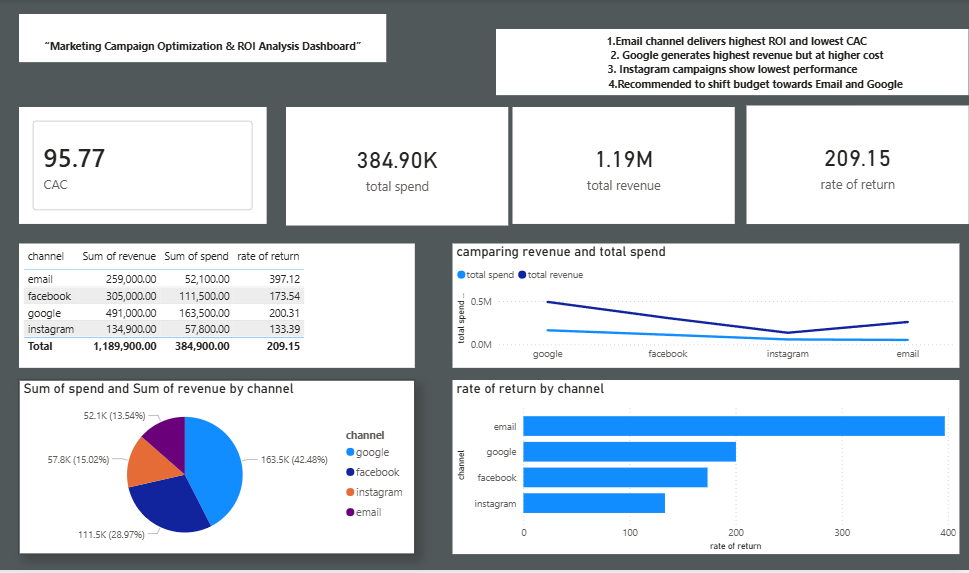

The dashboard page shown, as its layout file describes it:
{"tool":"powerbi","page":{"name":"Page 1","canvas":[1280,720],"ordinal":0},"visuals":[{"type":"cardVisual","fields":{"Data":["Campaign.CAC"]},"box":[83.2,136.1,311.8,147.4],"z":0},{"type":"card","fields":{"Values":["Campaign.rate of return"]},"box":[999.7,134.2,279.7,149.3],"z":1000},{"type":"card","fields":{"Values":["Campaign.total revenue"]},"box":[704.9,136.1,279.7,147.4],"z":2000},{"type":"card","fields":{"Values":["Campaign.total spend"]},"box":[419.5,136.1,279.7,149.3],"z":3000},{"type":"clusteredBarChart","fields":{"Category":["Campaign.channel"],"Y":["Campaign.rate of return"]},"box":[629.3,480,638.7,219.2],"z":4000},{"type":"pieChart","fields":{"Category":["Campaign.channel"],"Y":["Sum(Campaign.spend)"]},"box":[83.2,480,498.9,219.2],"z":5000},{"type":"tableEx","fields":{"Values":["Campaign.channel","Sum(Campaign.revenue)","Sum(Campaign.spend)","Campaign.rate of return"]},"box":[83.2,308,498.9,156.9],"z":6000},{"type":"lineChart","title":"camparing revenue and total spend ","fields":{"Category":["Campaign.channel"],"Y":["Campaign.total spend","Campaign.total revenue"]},"box":[629.3,308,638.7,156.9],"z":6001},{"type":"textbox","box":[83.2,18.9,463,60.5],"z":6002},{"type":"textbox","box":[684.1,37.8,595.3,83.2],"z":6003}]}

Visuals, with their boxes in screenshot pixels (x1, y1, x2, y2):
cardVisual - Campaign.CAC: <region>14, 102, 264, 220</region>
card - Campaign.rate of return: <region>749, 100, 968, 220</region>
card - Campaign.total revenue: <region>513, 102, 737, 220</region>
card - Campaign.total spend: <region>284, 102, 508, 221</region>
clusteredBarChart - Campaign.channel x Campaign.rate of return: <region>452, 378, 965, 554</region>
pieChart - Campaign.channel x Sum(Campaign.spend): <region>14, 378, 414, 554</region>
tableEx - Campaign.channel x Sum(Campaign.revenue): <region>14, 240, 414, 365</region>
"camparing revenue and total spend " lineChart: <region>452, 240, 965, 365</region>
textbox: <region>14, 8, 385, 56</region>
textbox: <region>496, 23, 968, 90</region>
